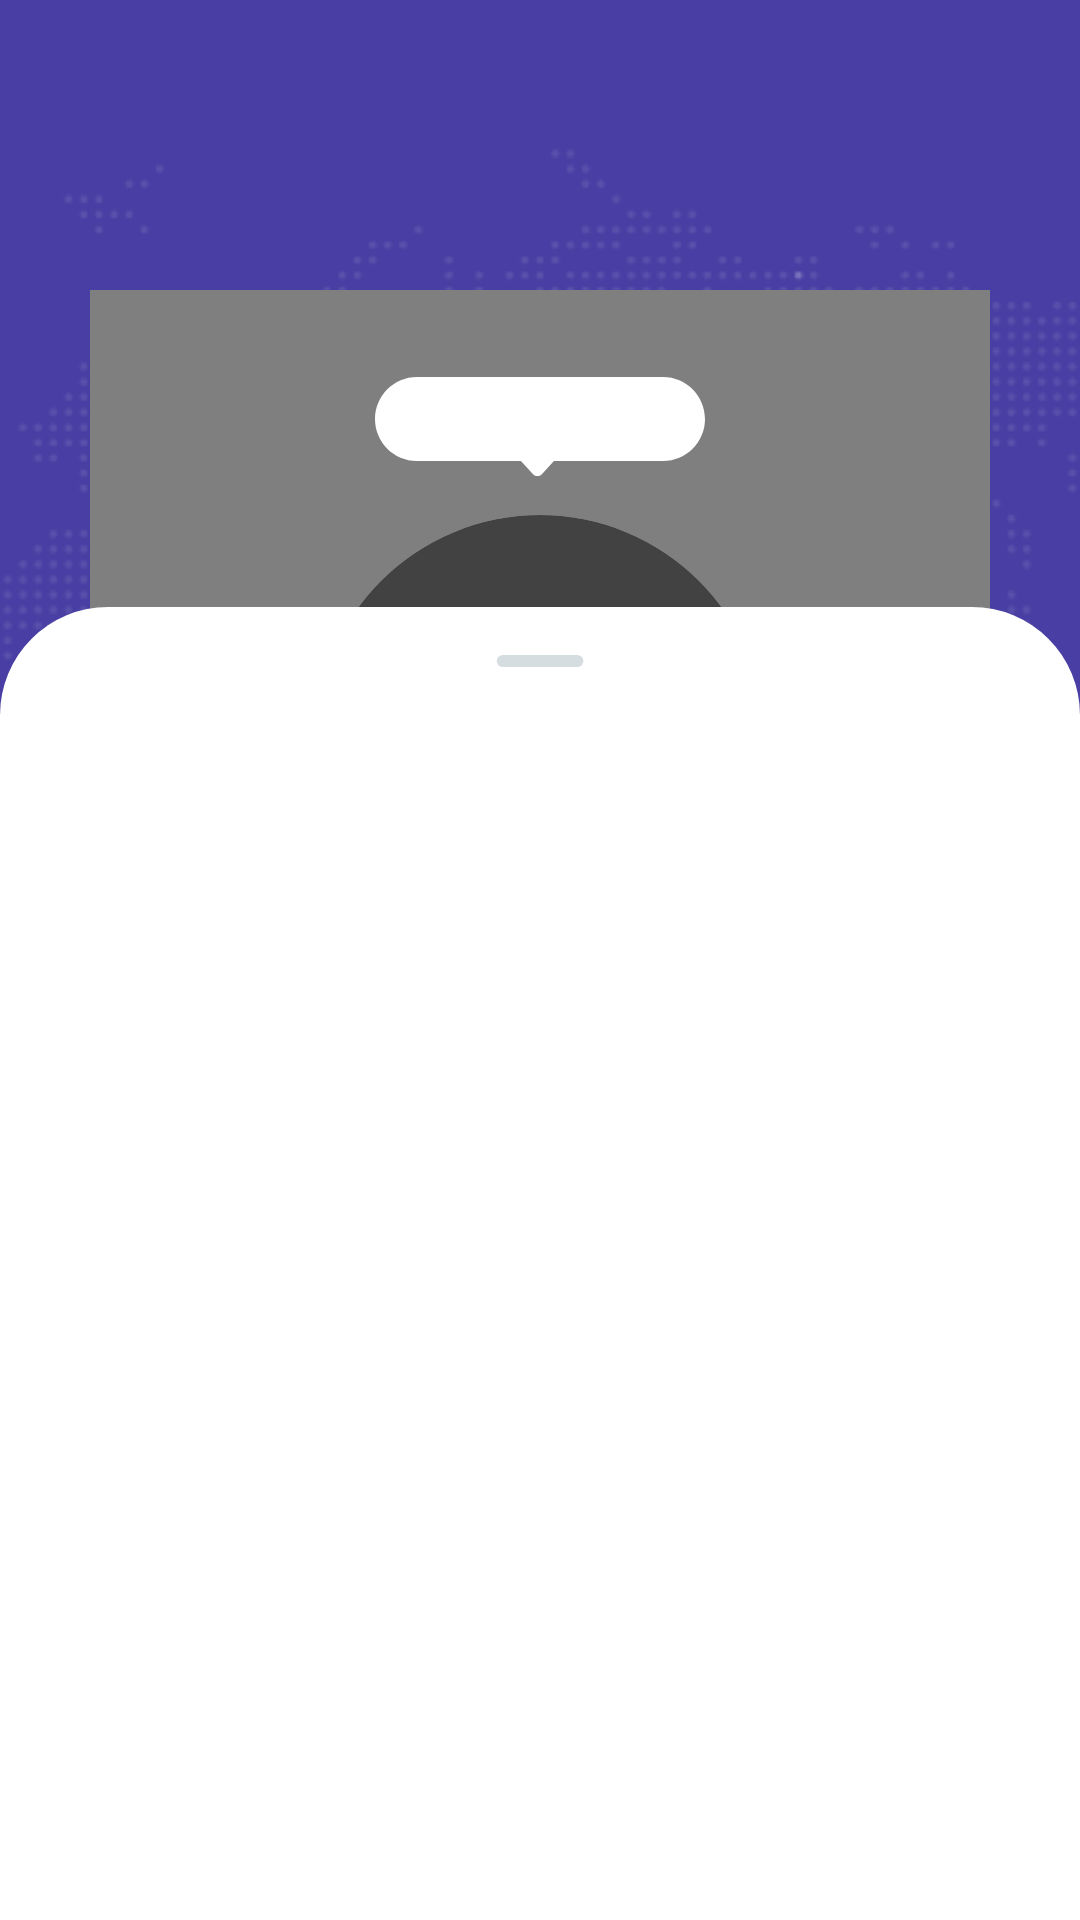

Icon bounding boxes for this 1080px×1920px phone screenshot, format [x1, y1, x2, y2]:
bubble: [375, 377, 705, 476]
